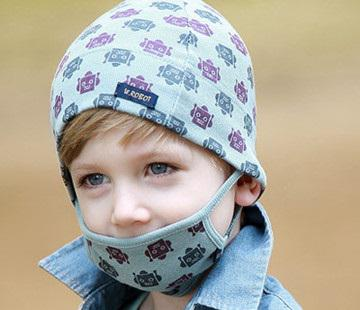WRONG: (71, 138, 220, 284)
